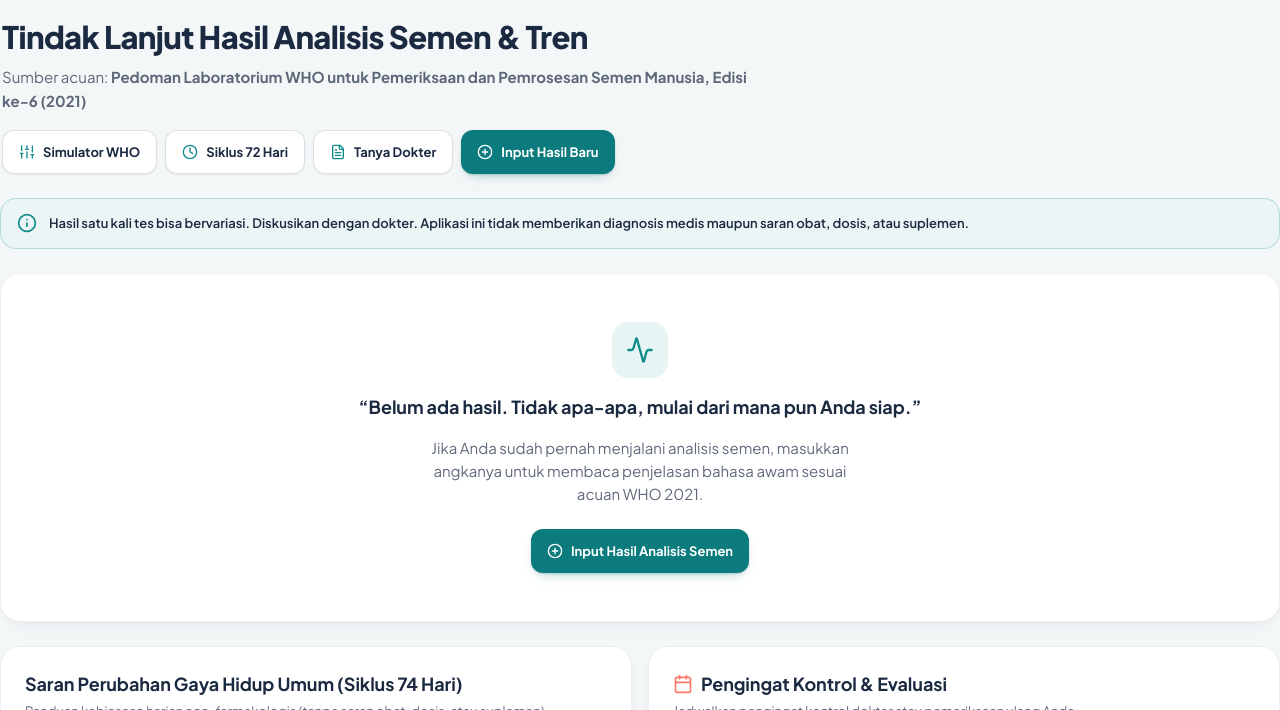
Test case: Uji Alur Utama, Privasi & Aksesibilitas Dasar (Side by Side) › Alur 6: Tindak Lanjut Hasil menampilkan empty state, mendukung Edit hasil, dan memuat Grafik Tren SVG
Expected: the heading "Belum ada hasil. Tidak apa-apa, mulai dari mana pun Anda siap." is shown, x1=369 y1=395 x2=911 y2=418
Step 1. Click the button "Input Hasil Analisis Semen" → click(640, 551), box x1=531 y1=529 x2=749 y2=573
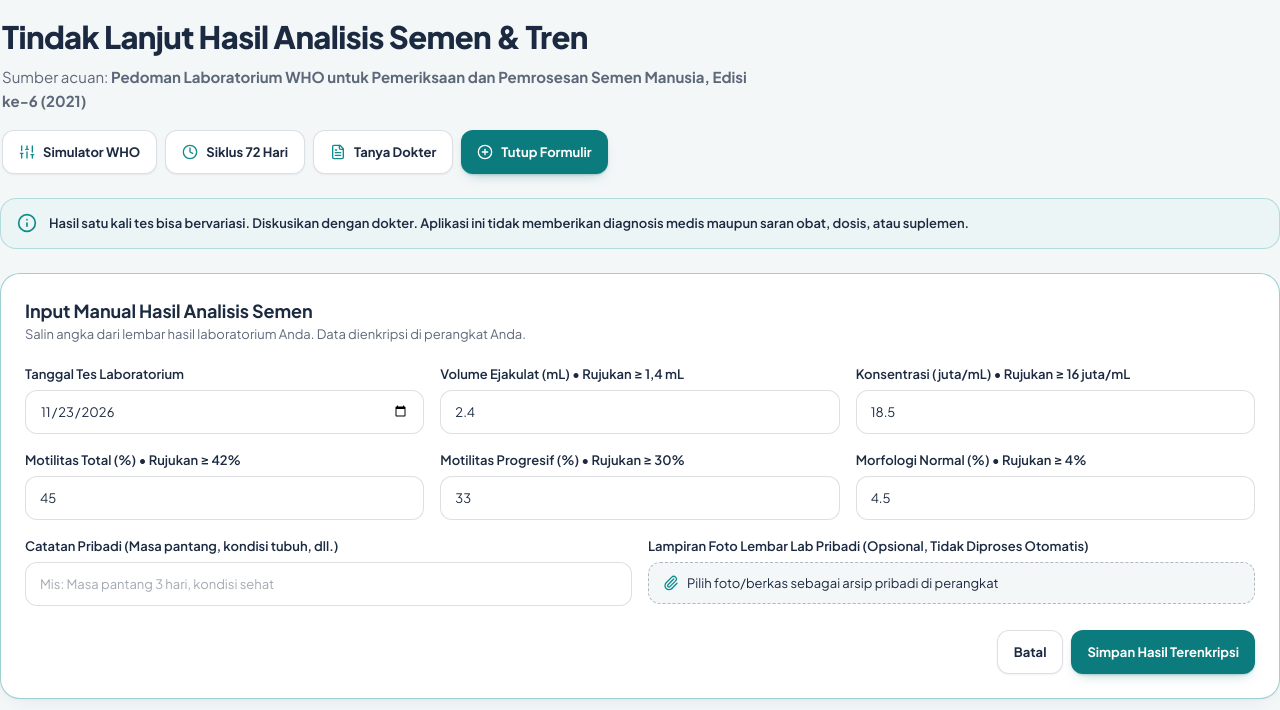
Step 2. Click the button "Simpan Hasil Terenkripsi" → click(1163, 652), box x1=1071 y1=630 x2=1255 y2=674
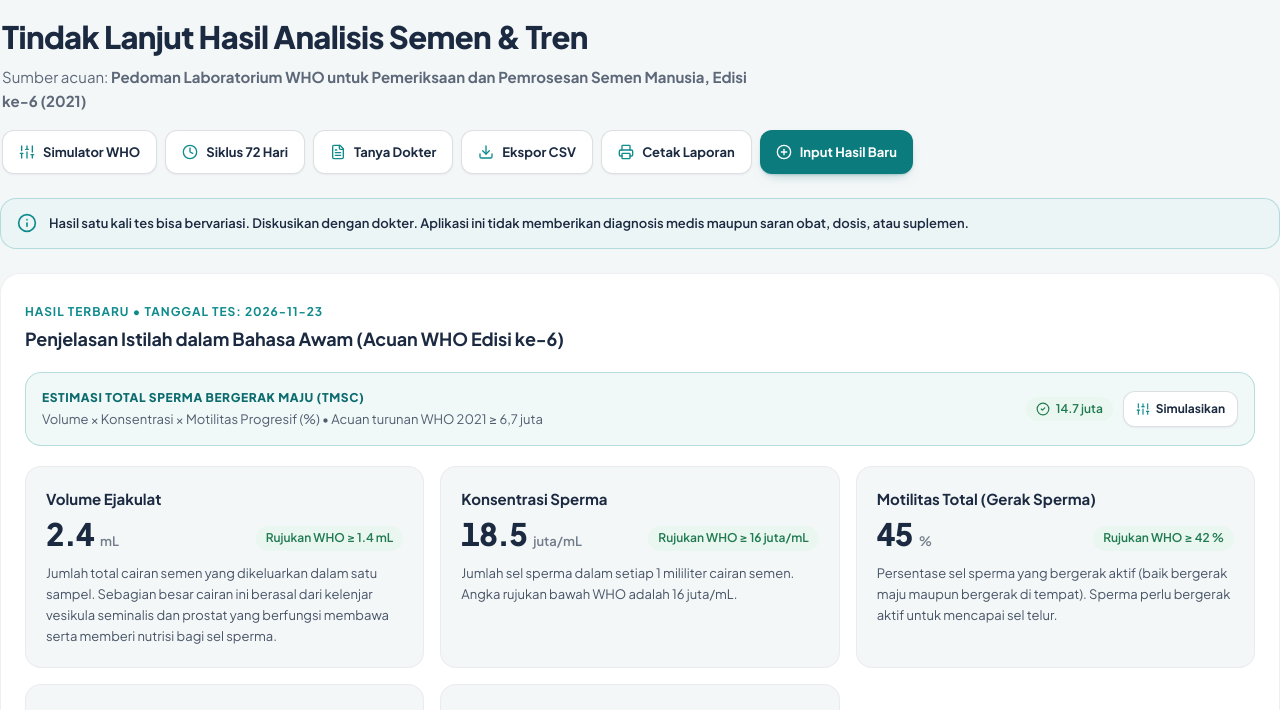
Expected: the button "Input Hasil Baru" is shown
Step 3. Click the button "Input Hasil Baru" → click(836, 152), box x1=760 y1=130 x2=913 y2=174
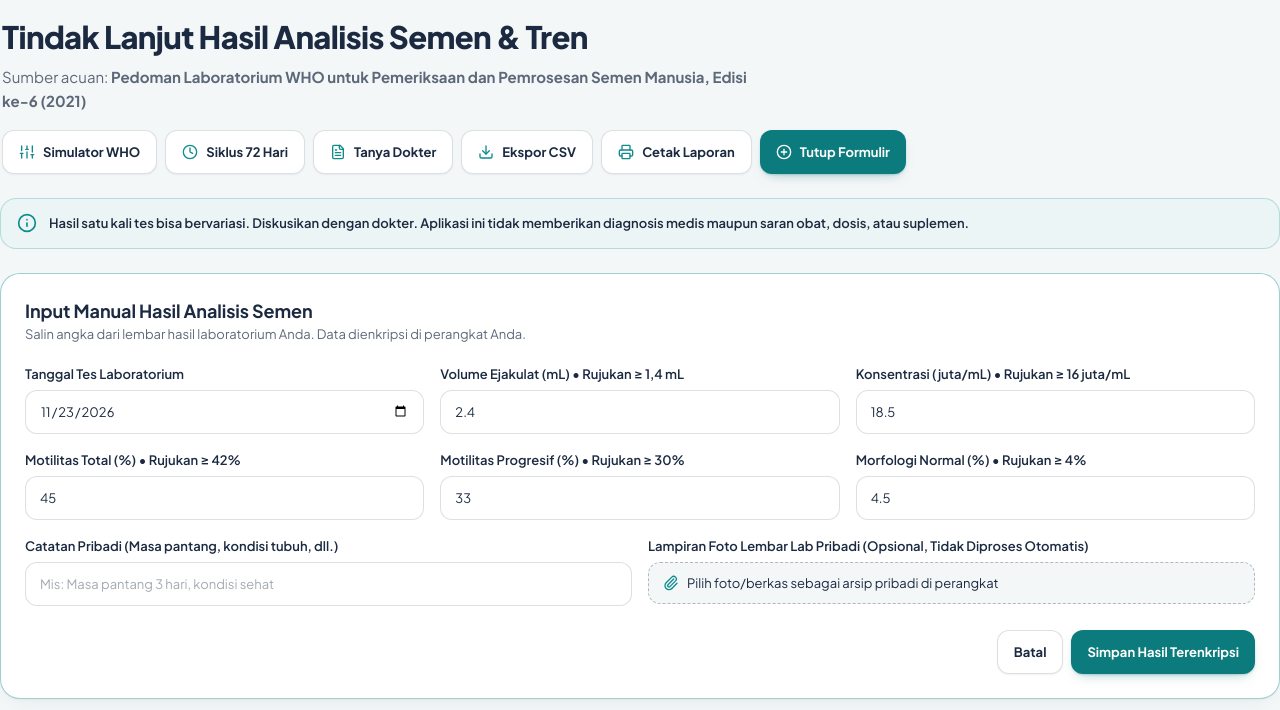
Step 4. Click the button "Simpan Hasil Terenkripsi" → click(1163, 652), box x1=1071 y1=630 x2=1255 y2=674
(page scrolled)
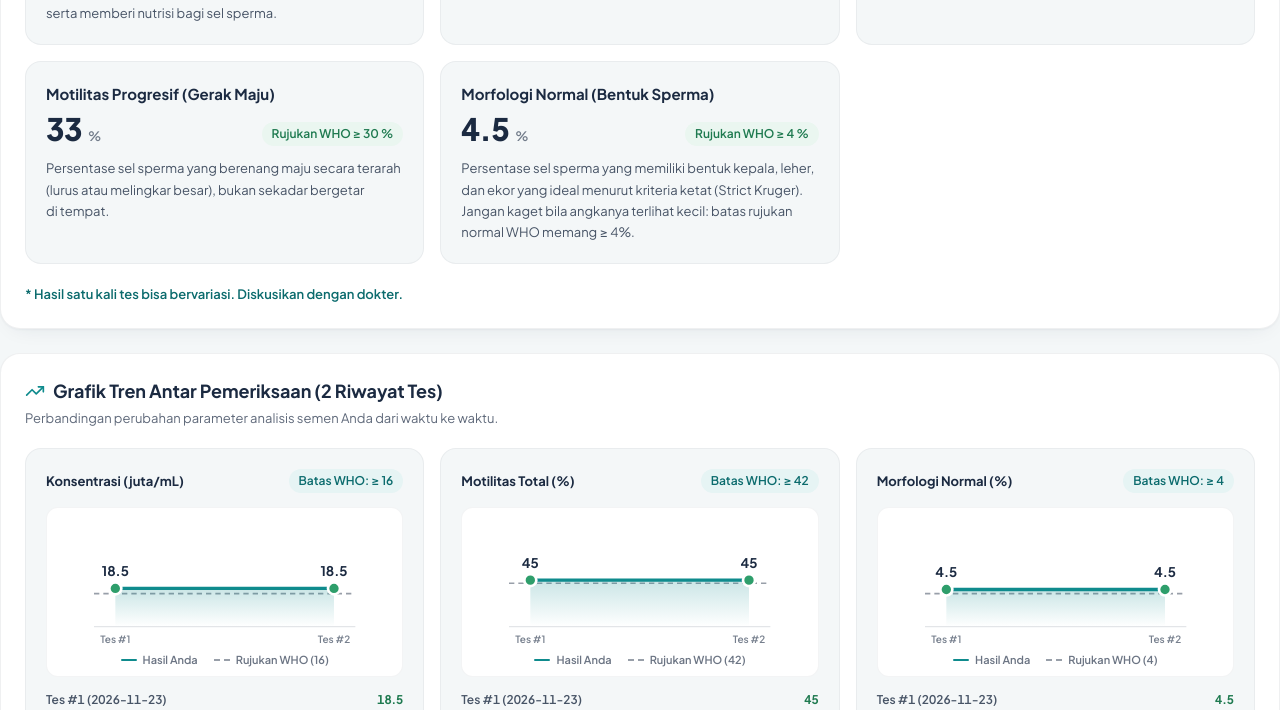
Expected: the text "Grafik Tren Antar Pemeriksaan (2 Riwayat Tes)" is shown, x1=53 y1=378 x2=443 y2=404
